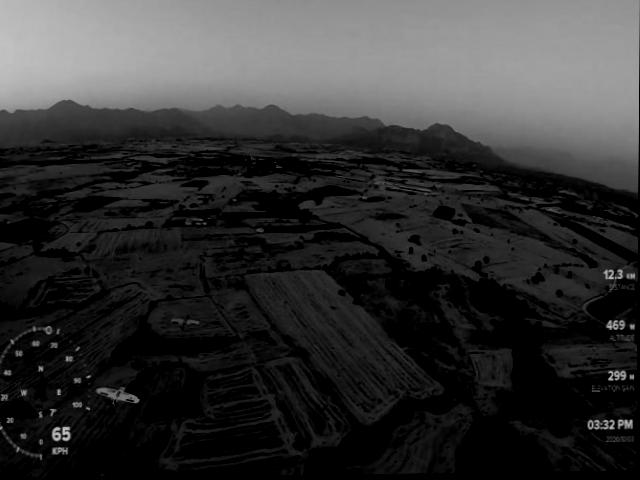hedef: (94, 381, 141, 409)
